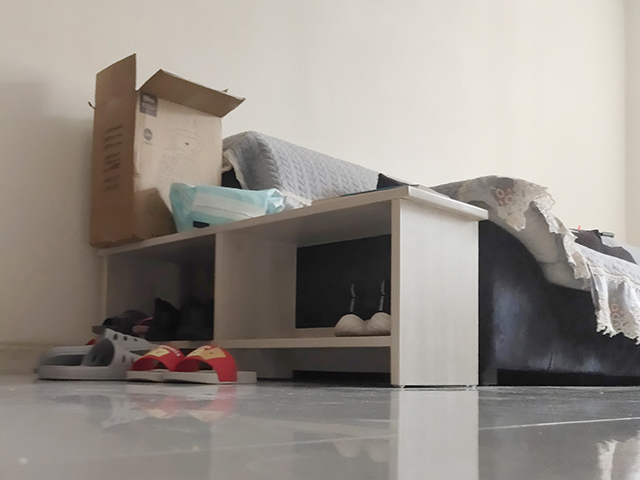slippers: (171, 343, 260, 387), (169, 341, 258, 385), (35, 339, 128, 379), (48, 325, 156, 352), (127, 347, 186, 383)
sofa: (221, 120, 640, 380)
